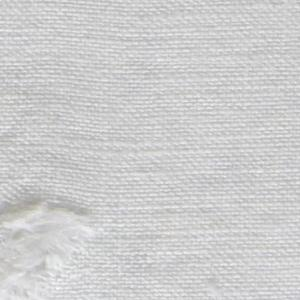Damage: (1, 192, 98, 300)
